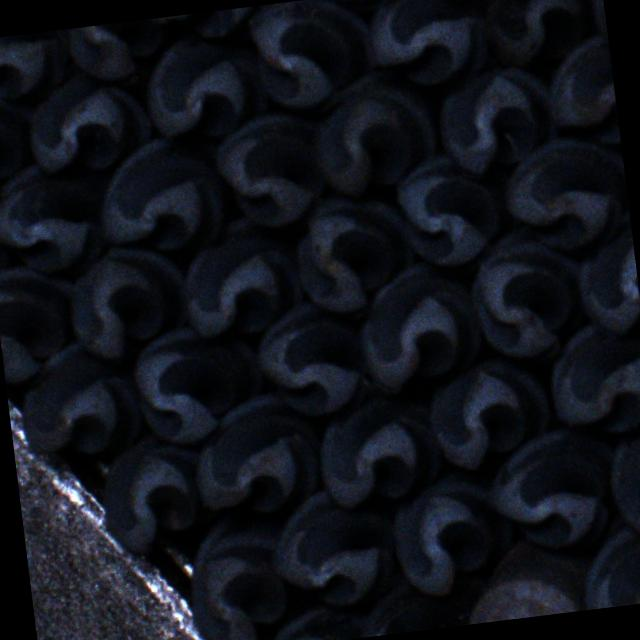tool_b: (482, 421, 626, 559), (184, 388, 324, 528), (350, 254, 488, 396), (462, 218, 590, 366), (384, 466, 518, 602), (262, 482, 398, 614), (497, 127, 633, 258), (127, 319, 265, 448), (307, 69, 443, 199), (90, 131, 228, 258), (174, 214, 308, 341), (312, 386, 446, 512), (12, 335, 144, 462), (181, 505, 304, 640), (287, 187, 415, 316), (65, 240, 193, 364), (424, 350, 556, 470), (140, 28, 271, 145), (244, 0, 378, 114), (94, 430, 212, 558), (209, 110, 330, 234), (252, 295, 371, 420), (436, 60, 562, 178), (390, 146, 506, 272), (24, 66, 154, 176), (0, 157, 112, 282), (362, 0, 491, 93), (544, 317, 640, 439), (0, 261, 82, 386), (542, 32, 620, 153), (569, 210, 640, 340), (478, 0, 597, 74), (349, 565, 464, 638), (65, 15, 177, 84), (571, 507, 640, 610), (0, 28, 83, 104), (0, 86, 42, 203), (602, 420, 640, 545)
